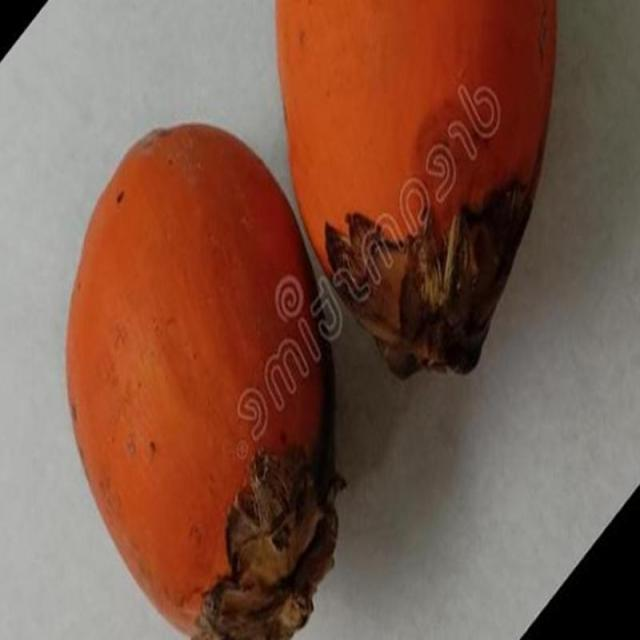good: (64, 124, 345, 639), (273, 0, 558, 380)
